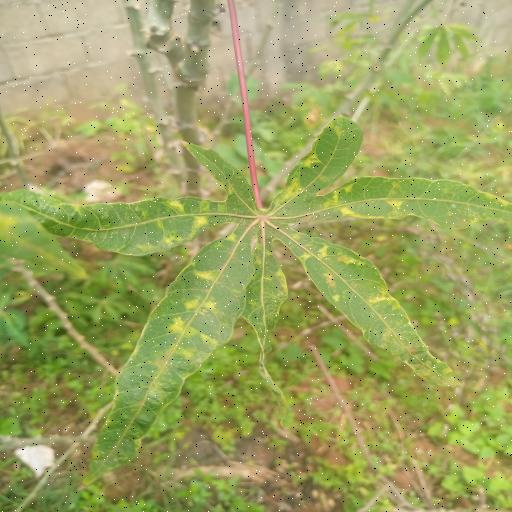Cassava_Mosaic: (5, 112, 512, 482)
